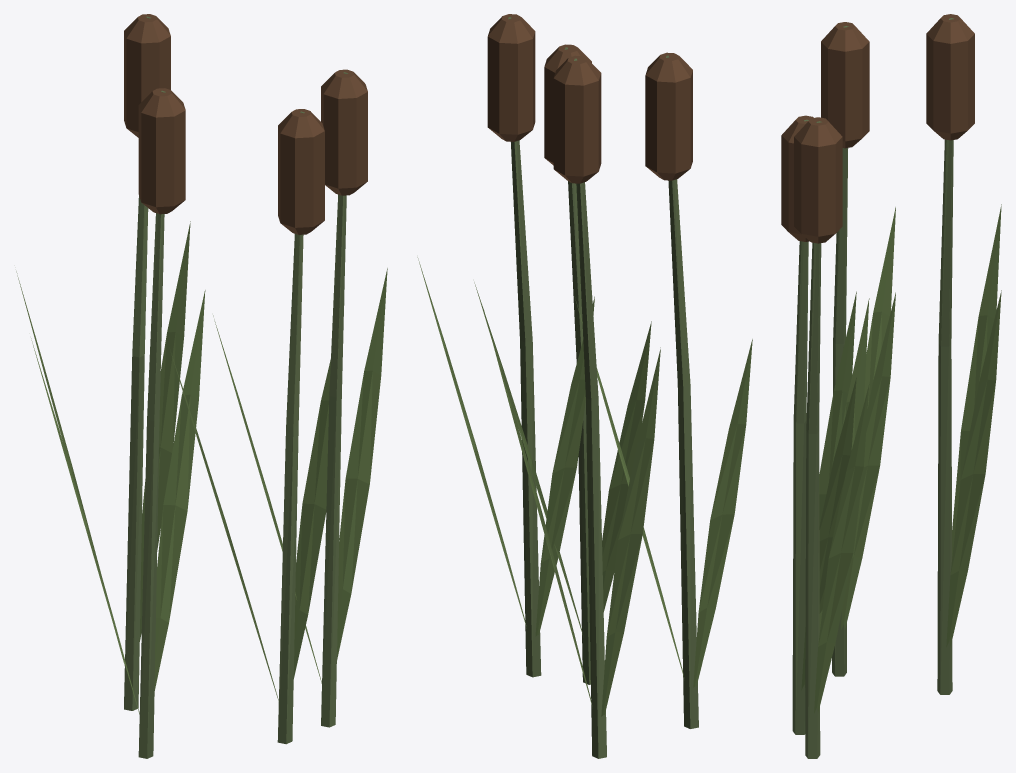
Rendered from cattail_b.glb.
3 renders of one model, left to right at view 1: azimuth 30°, elevation 25°; view 2: azimuth 150°, elevation 25°; view 3: azimuth 270°, elevation 25°, orthographic.
Parts seen in each view (by area): view 1: geometry; view 2: geometry; view 3: geometry.
Part boxes in pixels (bbox=[...]): geometry: bbox=[16, 14, 387, 758]; geometry: bbox=[417, 14, 752, 758]; geometry: bbox=[781, 14, 1001, 758].
Bounding box in the file's own units: 0.705 × 1.33 × 0.3891.
